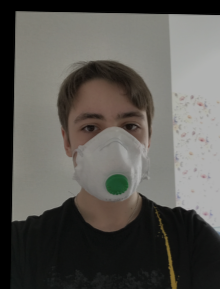with_mask: (68, 91, 150, 202)
